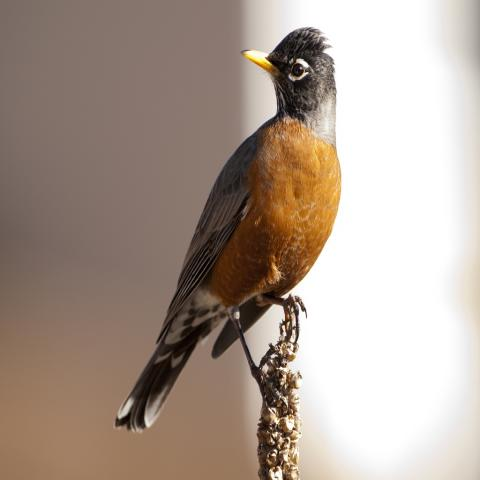bird: (112, 25, 342, 434)
